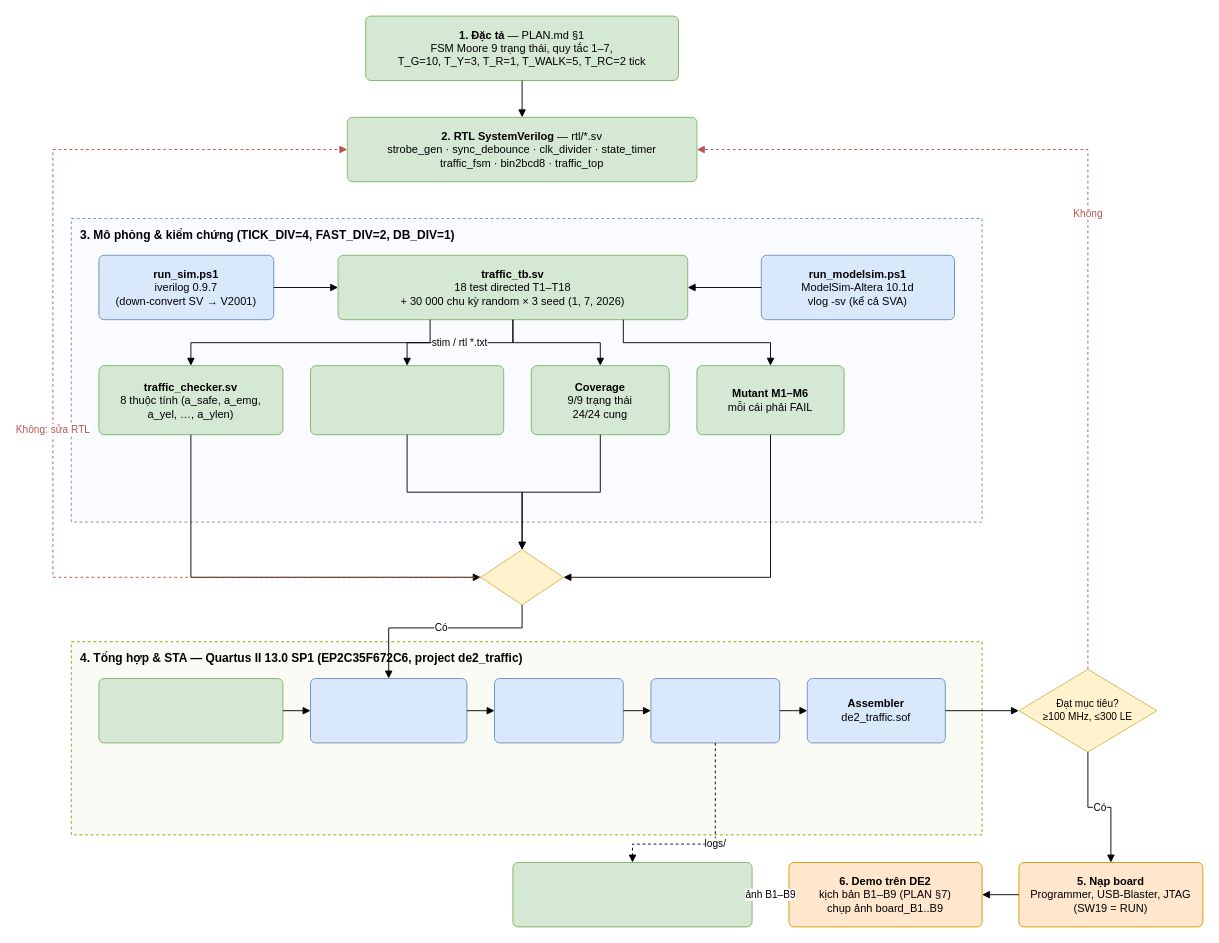
The diagram is 1219 pixels wide and 943 high, and some of its shapes have lost their labels. Each missing label, with the centre of its shape:
7. Báo cáo make_figures.py + capture_gtkwave.ps1 → LaTeX IEEEtran (9 trang): (x=632, y=894)
Analysis & Synthesis nhận FSM, encoding Binary / Gray / One-Hot: (x=388, y=710)
de2_top.sv + .qsf 106 chân (lab 4 / labSta) + de2_traffic.sdc (20 ns): (x=190, y=710)
Fitter gán chân, CLOCK_50 → GCLK2: (x=558, y=710)
model/golden.py mô hình cycle-accurate, so từng chu kỳ với trace RTL: (x=407, y=400)
PASS?: (x=522, y=577)
TimeQuest Slow/Fast Model, kiểm thêm 10 ns: (x=715, y=710)
